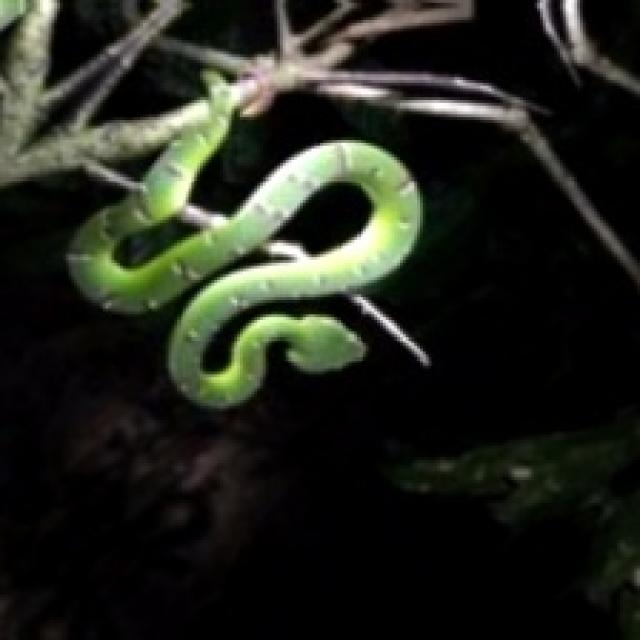north ph temple pitviper: (69, 71, 420, 406)
